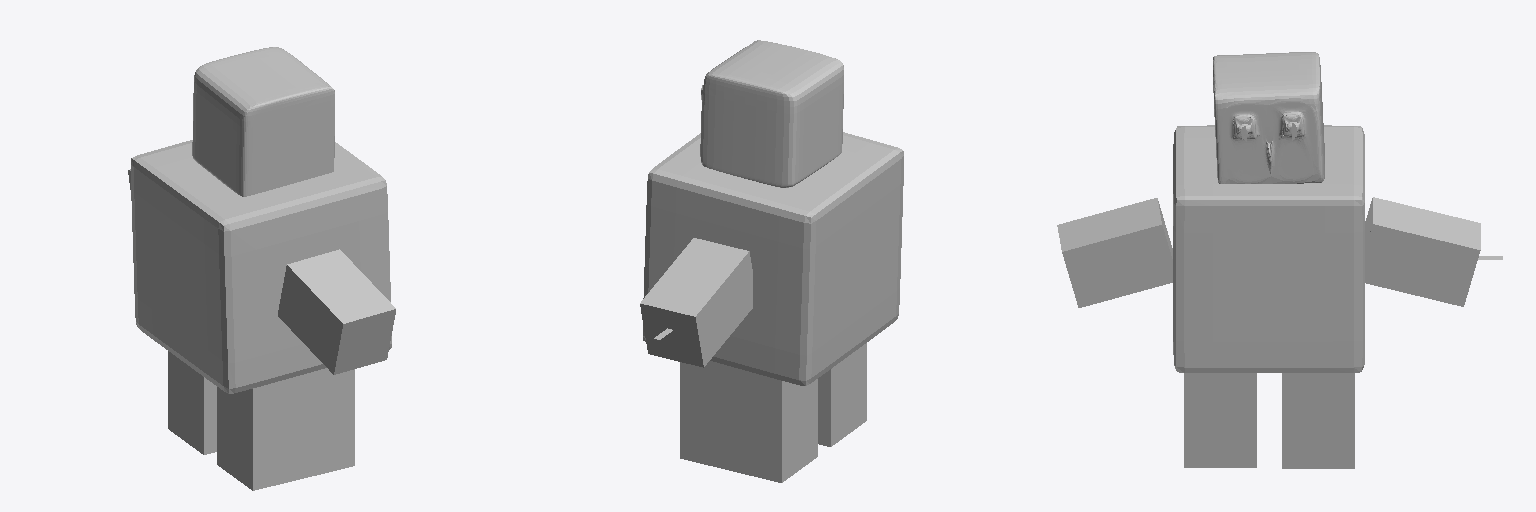
The picture shows the model from 3 angles: view 1: azimuth 30°, elevation 25°; view 2: azimuth 150°, elevation 25°; view 3: azimuth 270°, elevation 25°; orthographic projection.
Parts seen in each view (by area): view 1: Cube_Cube.001, Cube.001_Cube.002, CollisionLL_Cube.003, Cube.005_Cube.007, Cube.003_Cube.004; view 2: Cube_Cube.001, Cube.001_Cube.002, Cube.003_Cube.004, Cube.004_Cube.005, CollisionLL_Cube.003; view 3: Cube_Cube.001, Cube.001_Cube.002, Cube.004_Cube.005, Cube.005_Cube.007, Cube.003_Cube.004, CollisionLL_Cube.003.
Boxes of the visible parts, x1,y1,x2,y2 form: Cube_Cube.001: [131, 140, 391, 393]; Cube.001_Cube.002: [192, 47, 334, 196]; CollisionLL_Cube.003: [217, 368, 354, 490]; Cube.005_Cube.007: [278, 249, 395, 374]; Cube.003_Cube.004: [168, 351, 216, 454]; Cube_Cube.001: [643, 132, 903, 385]; Cube.001_Cube.002: [700, 40, 843, 187]; Cube.003_Cube.004: [680, 361, 817, 482]; Cube.004_Cube.005: [640, 238, 752, 367]; CollisionLL_Cube.003: [818, 343, 866, 446]; Cube_Cube.001: [1173, 125, 1364, 372]; Cube.001_Cube.002: [1213, 52, 1324, 183]; Cube.004_Cube.005: [1365, 197, 1480, 306]; Cube.005_Cube.007: [1057, 198, 1172, 307]; Cube.003_Cube.004: [1282, 373, 1354, 468]; CollisionLL_Cube.003: [1184, 373, 1256, 467].
Size of the model in its own units: 1.5 by 3.14 by 3.38.